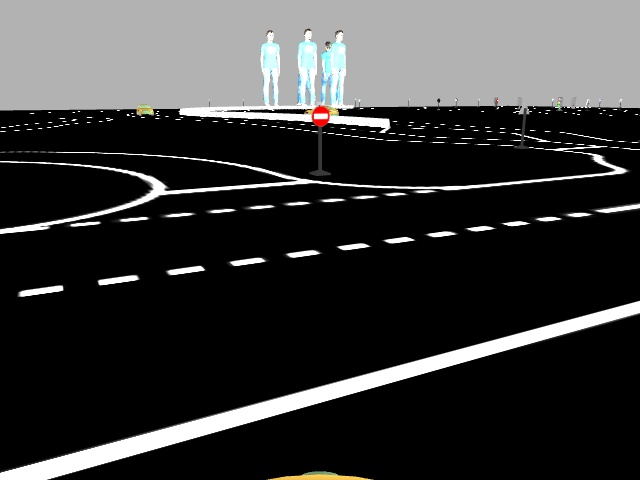NoEntry: (308, 105, 332, 127)
